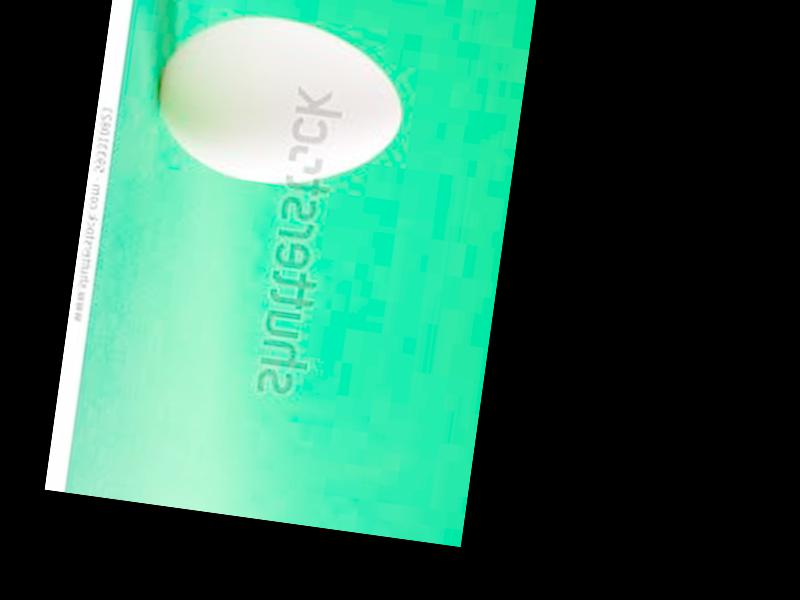Eggs: (145, 2, 411, 199)
